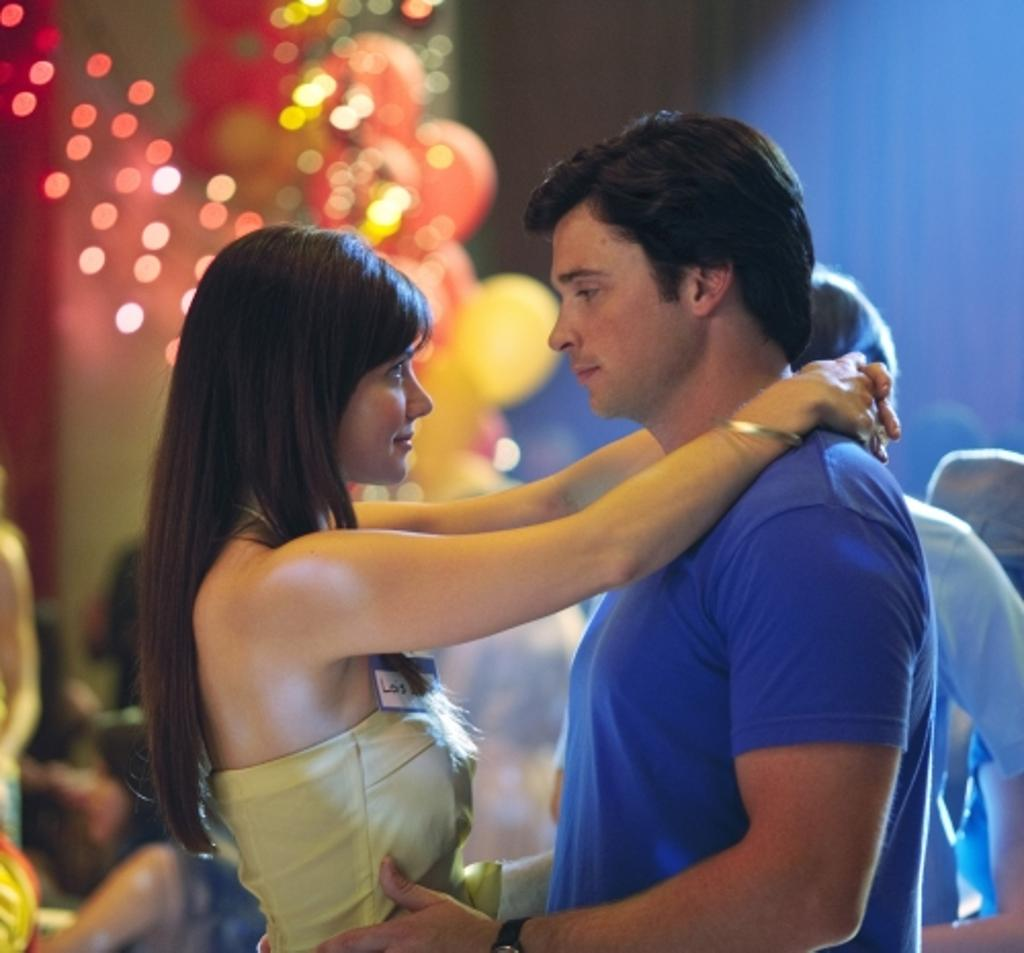face: (544, 200, 682, 414), (310, 288, 436, 484)
